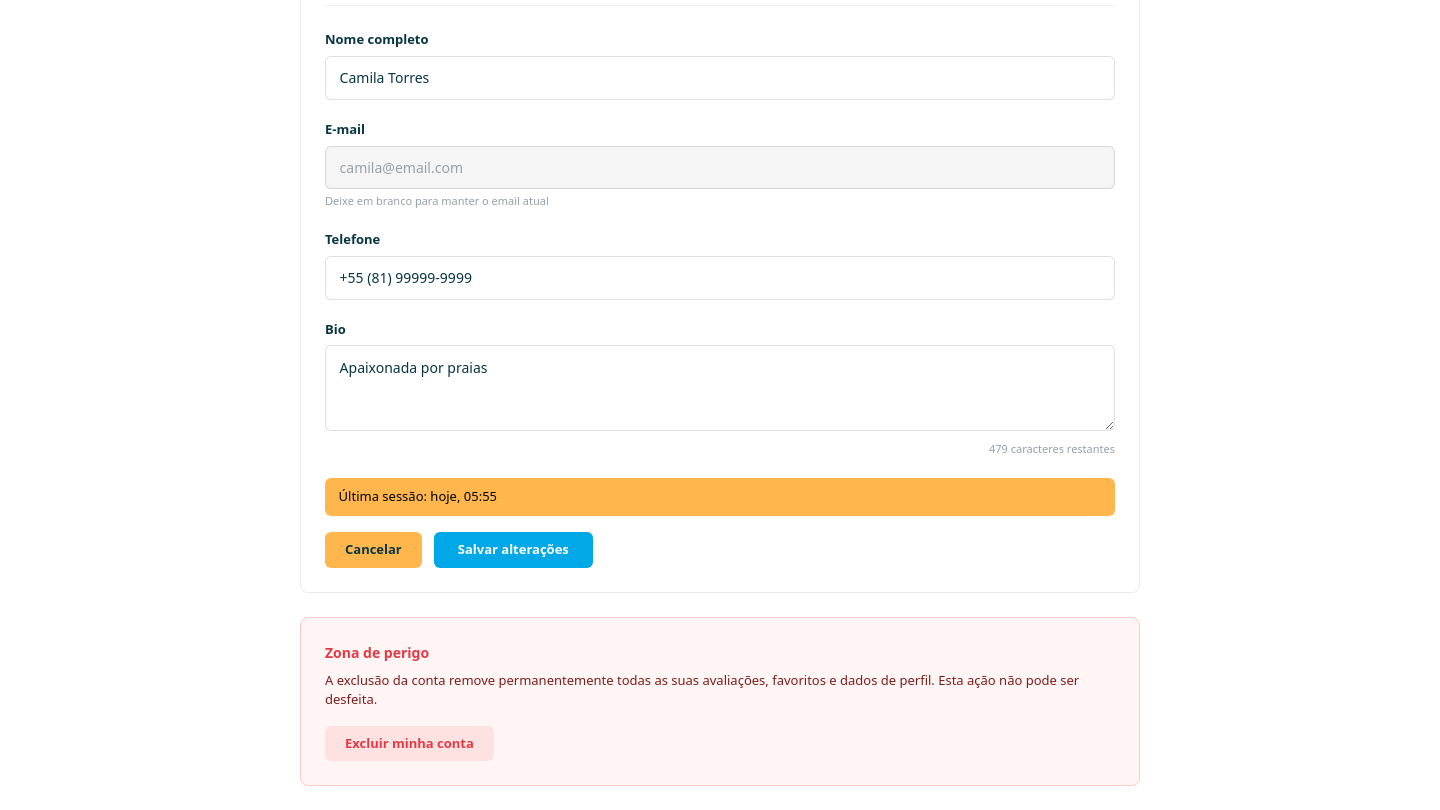
Test: AccountComponent › should disable confirm button until EXCLUIR is typed
(page scrolled)
Click the button with test id "delete-account-btn" at coordinates (409, 744), box [325,726,494,761]
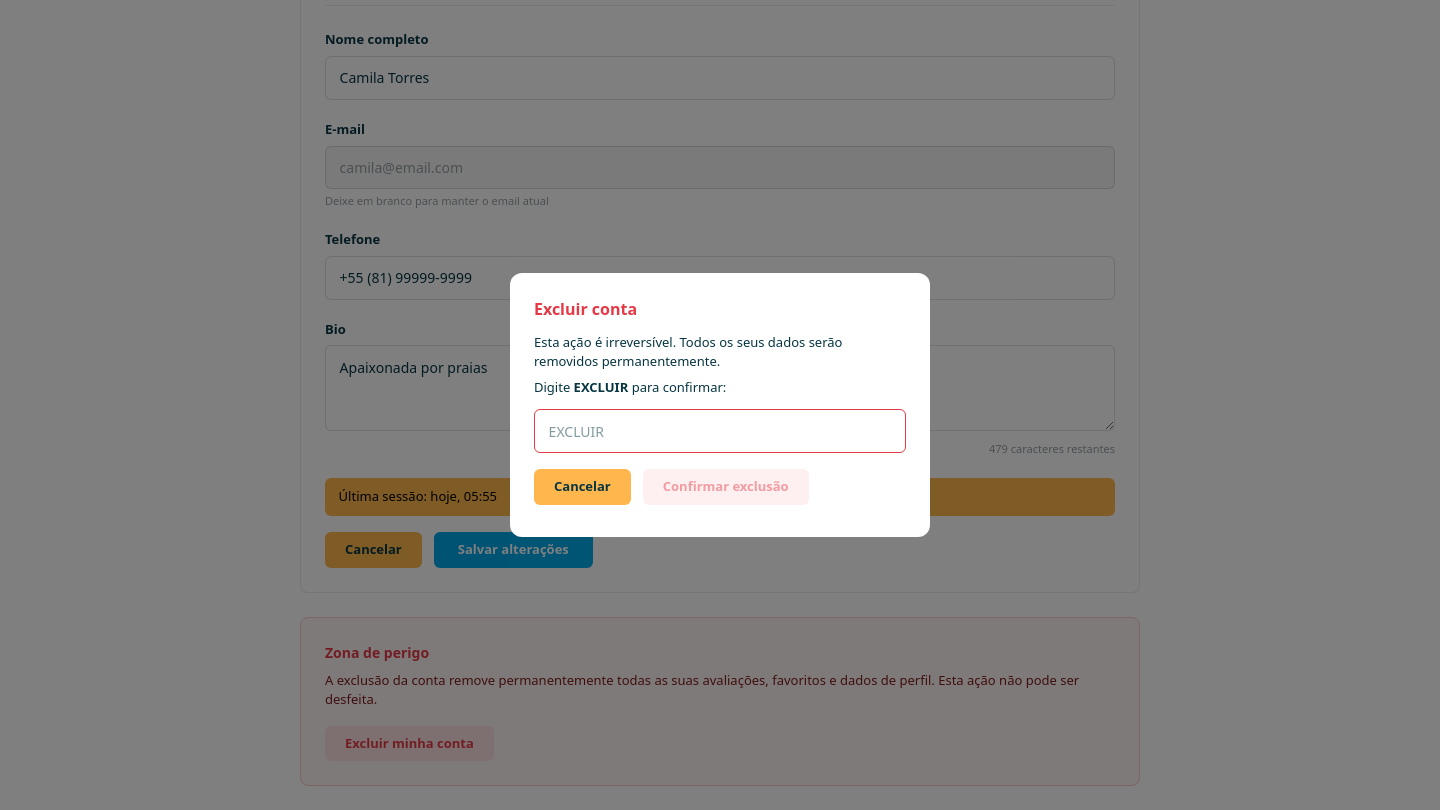
Expected: the button with test id "modal-confirm-btn" is disabled, [643,469,809,505]
Type "EXCLU" into the field with test id "confirm-input" at coordinates (720, 431), box [534,409,906,453]
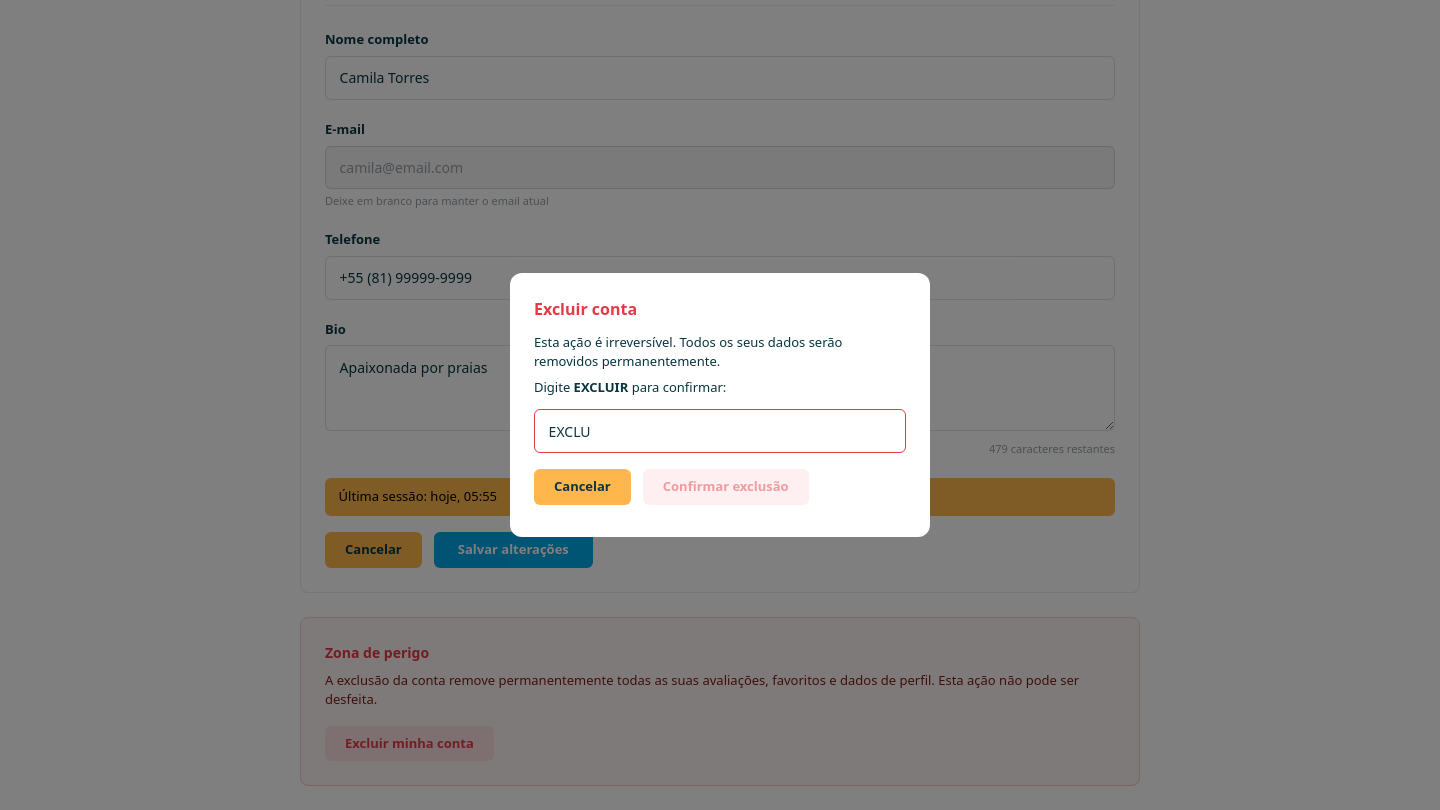
Expected: the button with test id "modal-confirm-btn" is disabled, [643,469,809,505]
Replace the text in the field with test id "confirm-input" with "EXCLUIR" at coordinates (720, 431), box [534,409,906,453]
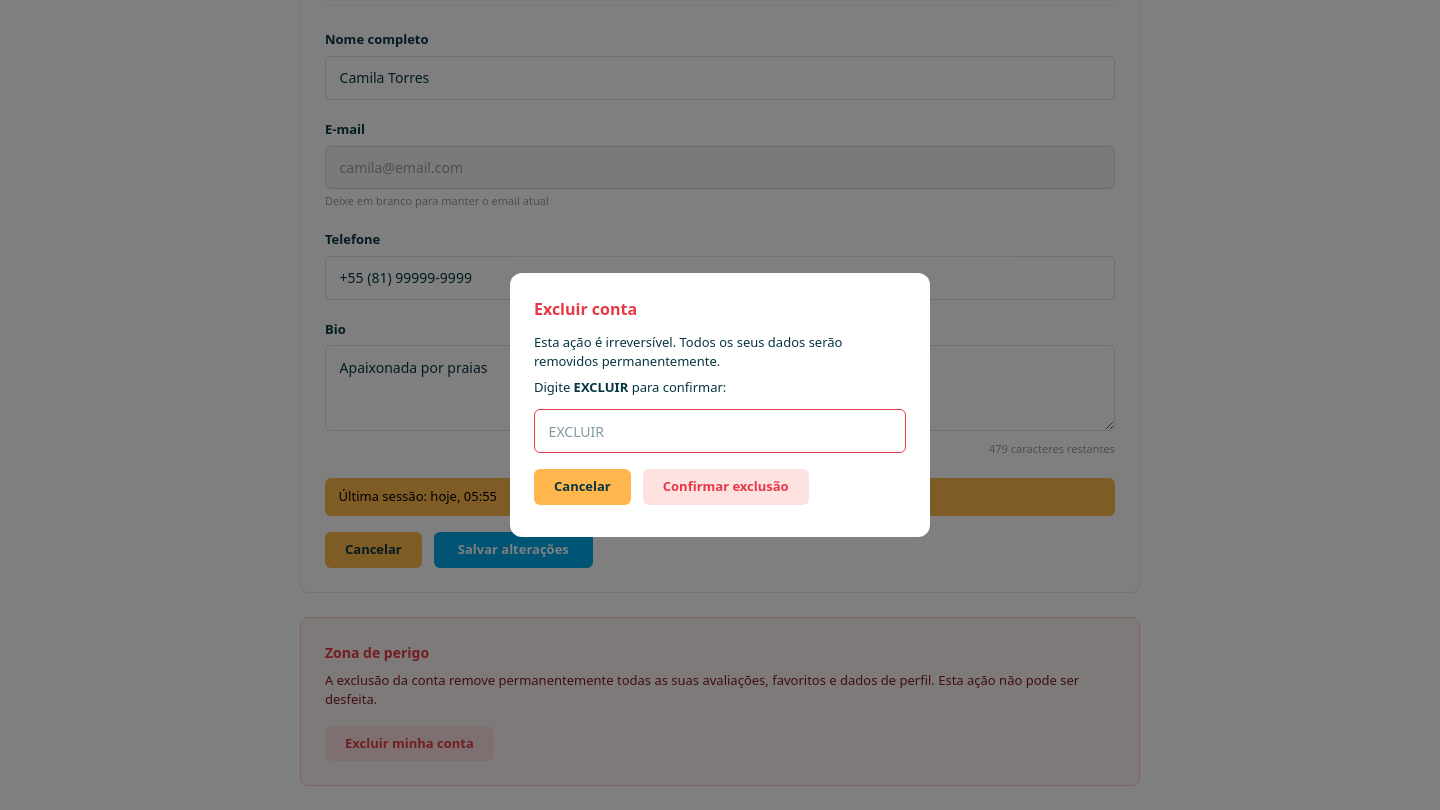
Expected: the button with test id "modal-confirm-btn" is enabled, [643,469,809,505]
